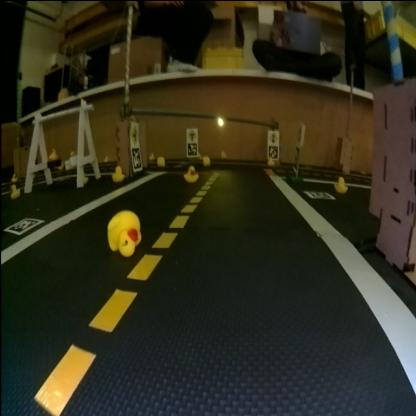Duckie: (106, 210, 140, 254), (184, 165, 198, 180), (112, 165, 124, 180), (335, 176, 346, 192), (10, 183, 20, 197), (204, 154, 210, 162), (158, 156, 164, 164), (220, 150, 226, 158), (267, 156, 273, 163)
Intersection sign: (132, 123, 138, 142), (188, 128, 197, 140)
QR code: (5, 216, 41, 234), (132, 146, 141, 166), (268, 144, 278, 158), (293, 145, 299, 167), (187, 142, 197, 154)
Signal sign: (268, 131, 278, 143)
Traffic light: (216, 112, 224, 126)
